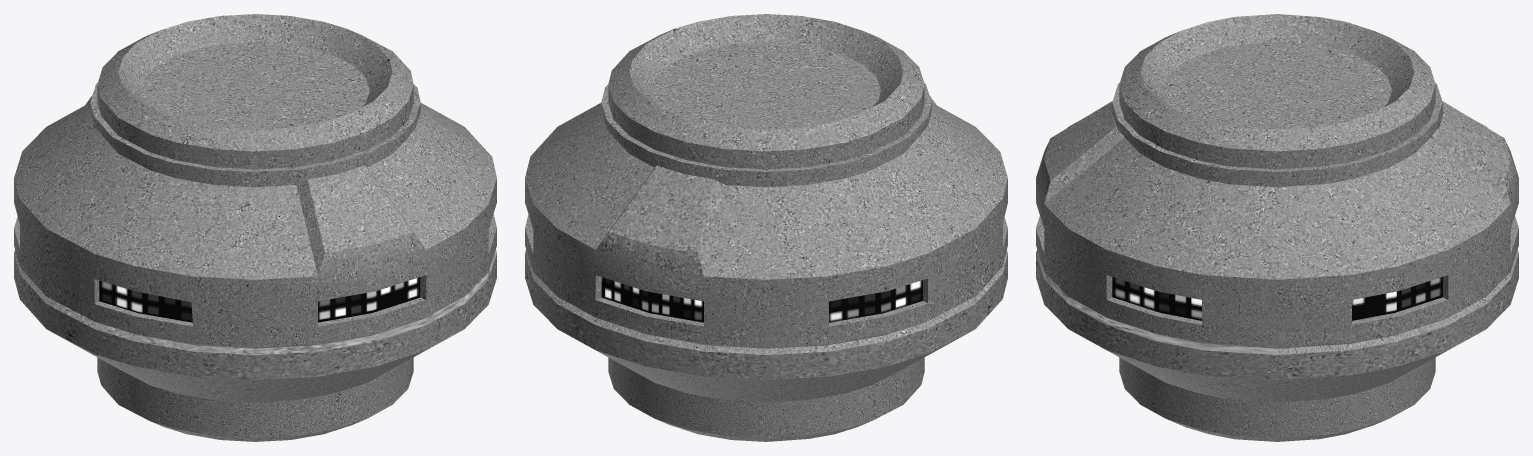
The model's file is FBX_ModuleCore.fbx.
3 renders of one model, left to right at view 1: azimuth 30°, elevation 25°; view 2: azimuth 150°, elevation 25°; view 3: azimuth 270°, elevation 25°, orthographic.
Visible parts, largest first — view 1: Module Core Export; view 2: Module Core Export; view 3: Module Core Export.
Part boxes in pixels (<box>): Module Core Export: <box>14,14,496,441</box>; Module Core Export: <box>525,14,1007,441</box>; Module Core Export: <box>1036,14,1518,441</box>.
Size of the model in its own units: 3.05 by 3.05 by 2.18.
